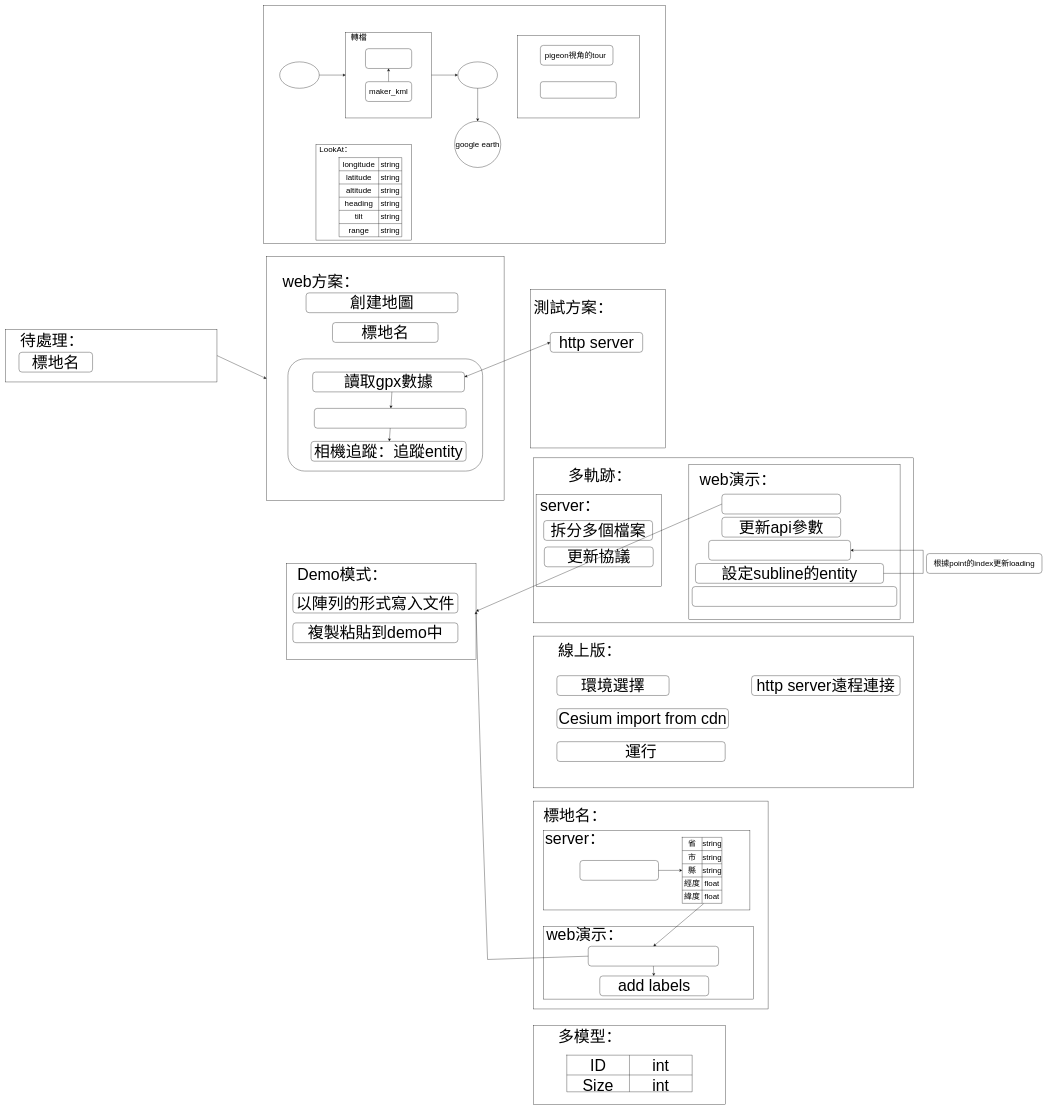
The diagram is 1048 pixels wide and 1110 high, and some of its shapes have lost their labels. The box of each missing label's shape, as (x1, y1, x2, y2) in pixels:
gpx文件: (279, 62, 319, 88)
kml文件: (458, 62, 497, 88)
Loading頁面隱藏，開始播放: (692, 586, 897, 606)
Load頁面加載: (708, 540, 851, 560)
make elevation: (588, 946, 719, 966)
reader_gpx: (365, 48, 412, 68)
根據協議拆數據: (722, 494, 841, 514)
設定entitys: (314, 408, 466, 428)
讀csv檔案: (580, 860, 659, 880)
高海拔視角的route: (540, 81, 616, 98)
